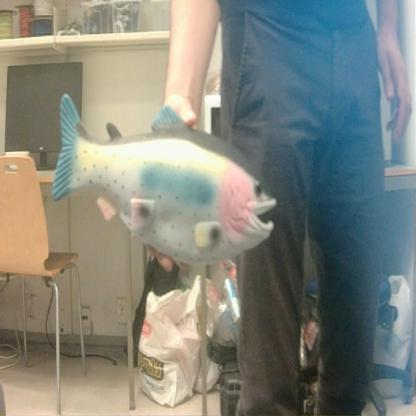rubberfish: (48, 80, 279, 266)
